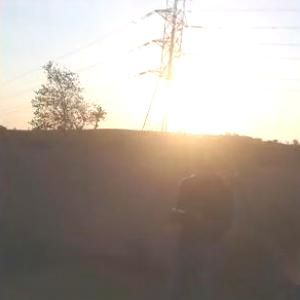follow: (164, 135, 238, 299)
